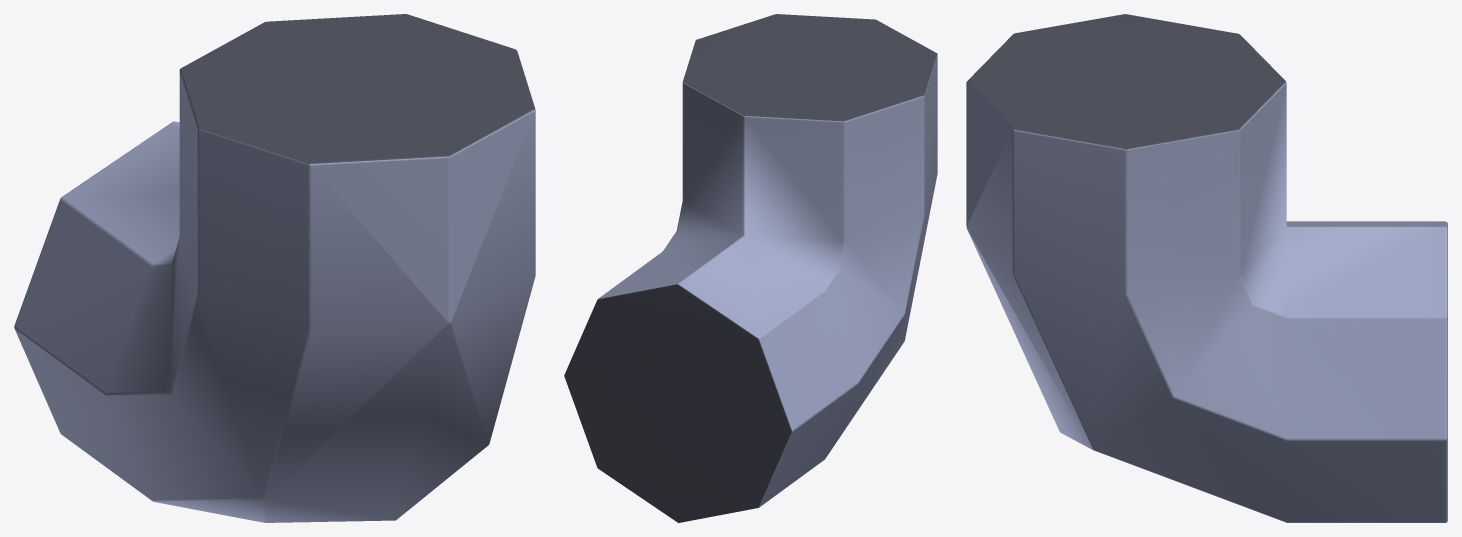
Rendered from gutter-vertical-bottom.glb.
3 views of the same model, side by side, from view 1: azimuth 30°, elevation 25°; view 2: azimuth 150°, elevation 25°; view 3: azimuth 270°, elevation 25° (orthographic). The views are drawn at different scales.
Visible parts, largest first — view 1: gutter-vertical-bottom; view 2: gutter-vertical-bottom; view 3: gutter-vertical-bottom.
Part boxes in pixels (left/top/right/bottom): gutter-vertical-bottom: left=14, top=14, right=535, bottom=522; gutter-vertical-bottom: left=564, top=14, right=937, bottom=522; gutter-vertical-bottom: left=966, top=14, right=1447, bottom=522.
Size of the model in its own units: 0.1995 by 0.2998 by 0.2997.
Materials: 1 (1 with a texture image).
